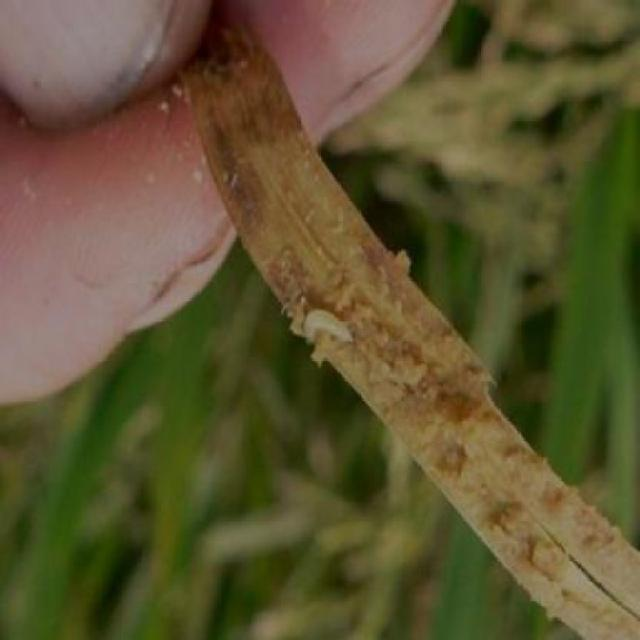whorl-maggot: (302, 291, 358, 358)
